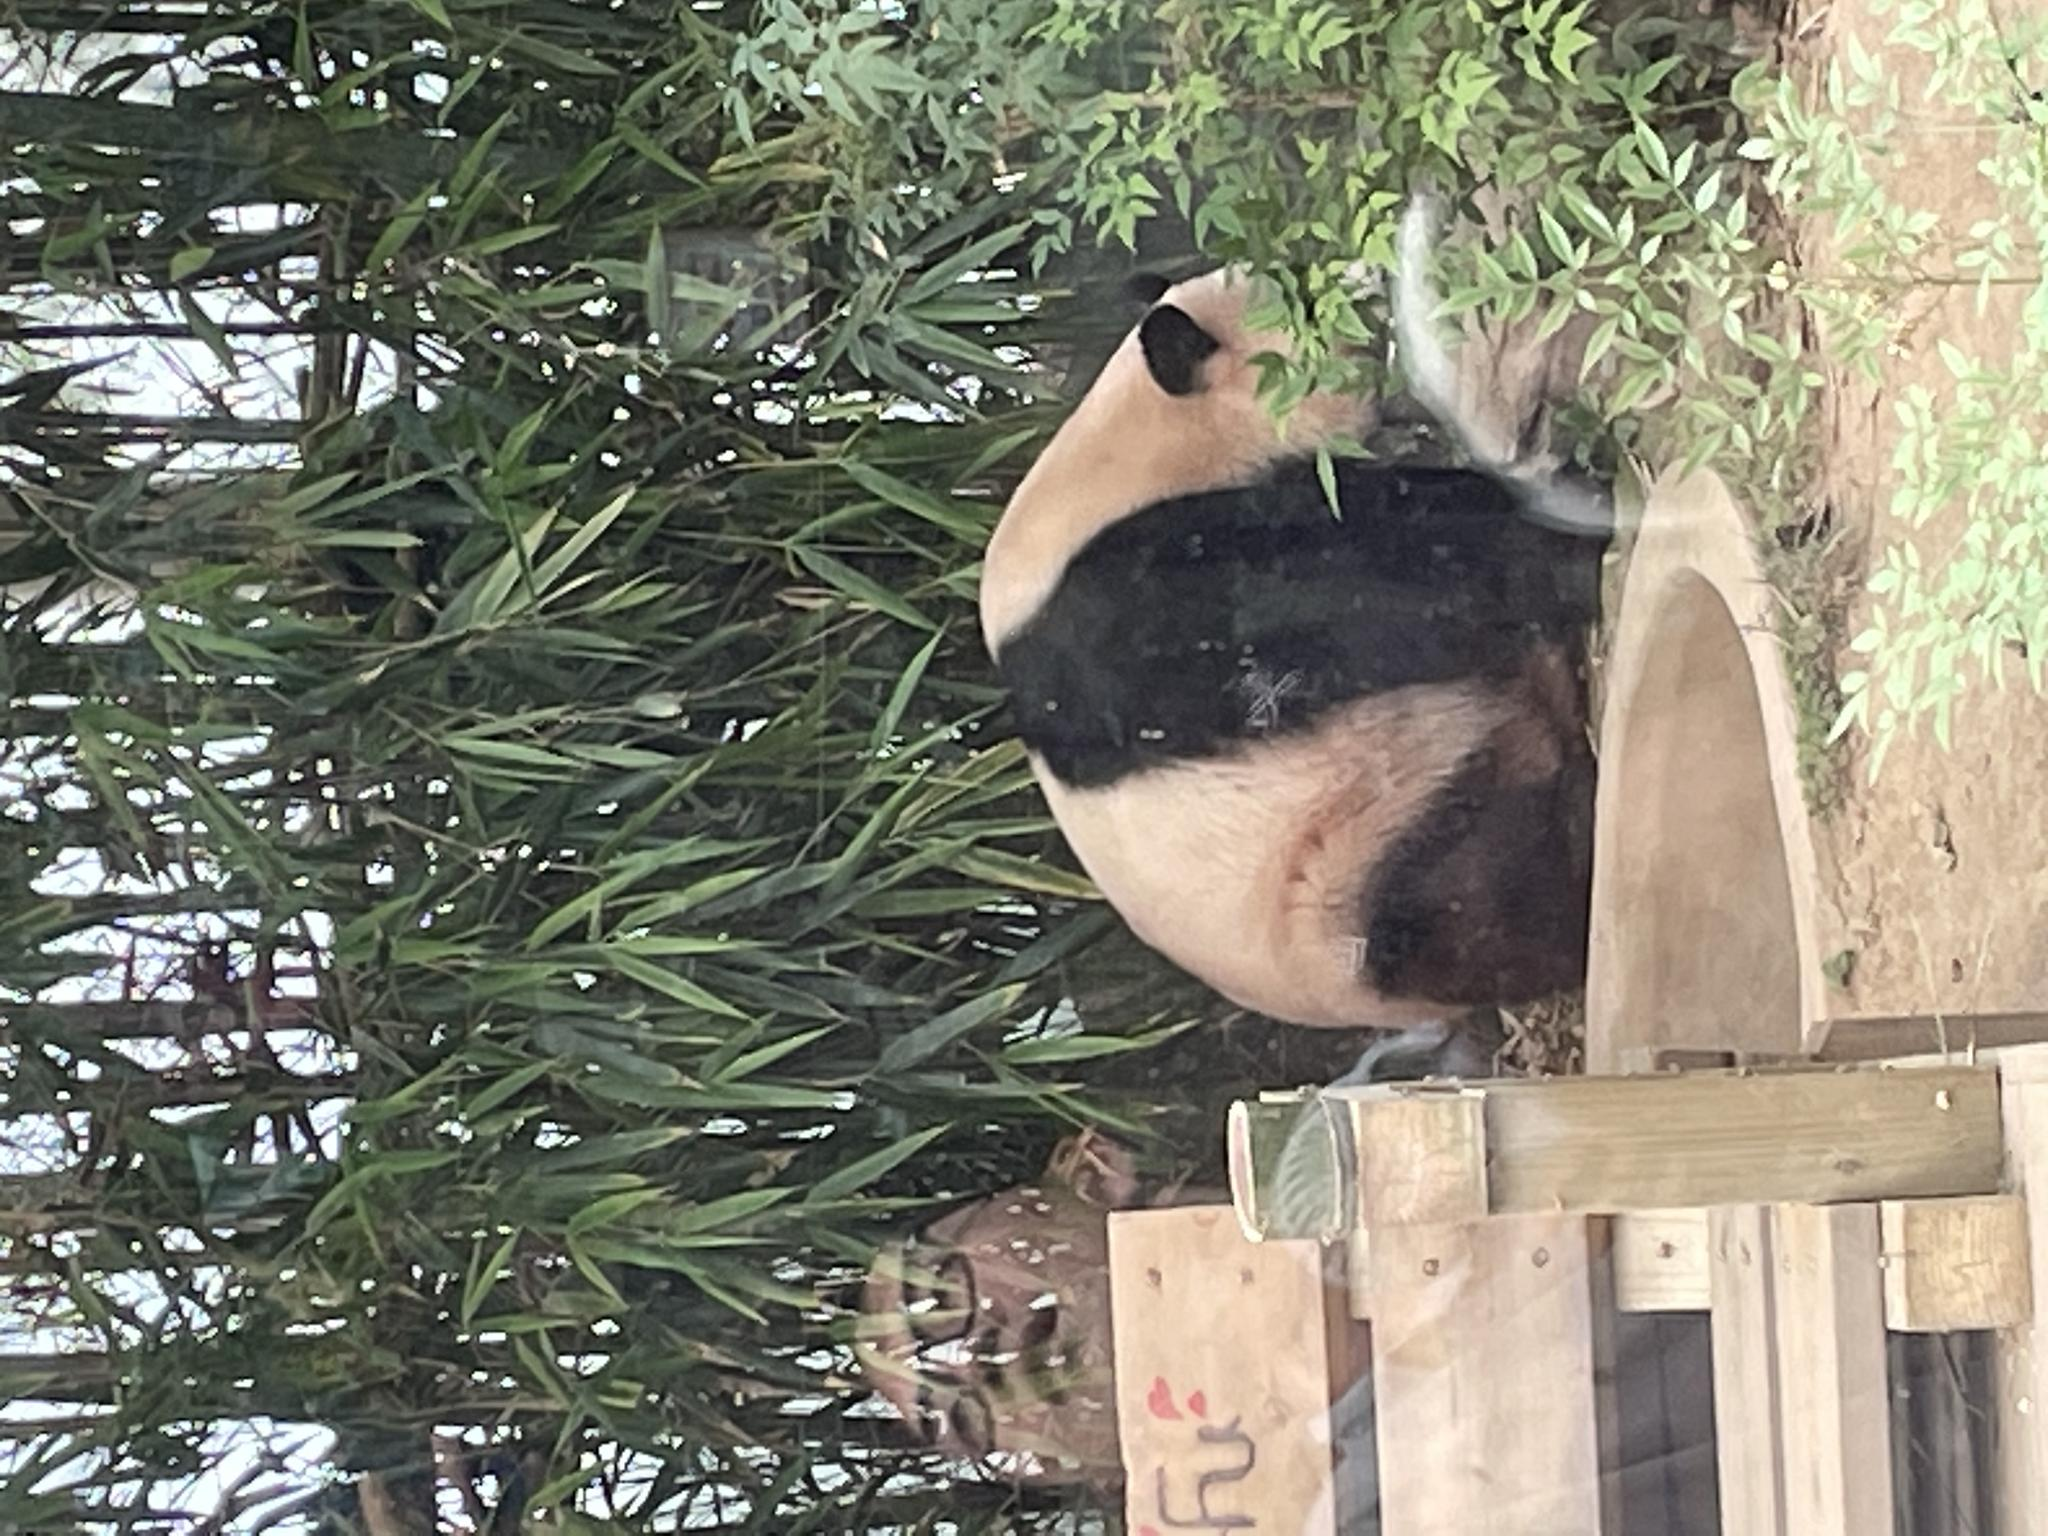panda: (500, 971, 1284, 1536)
